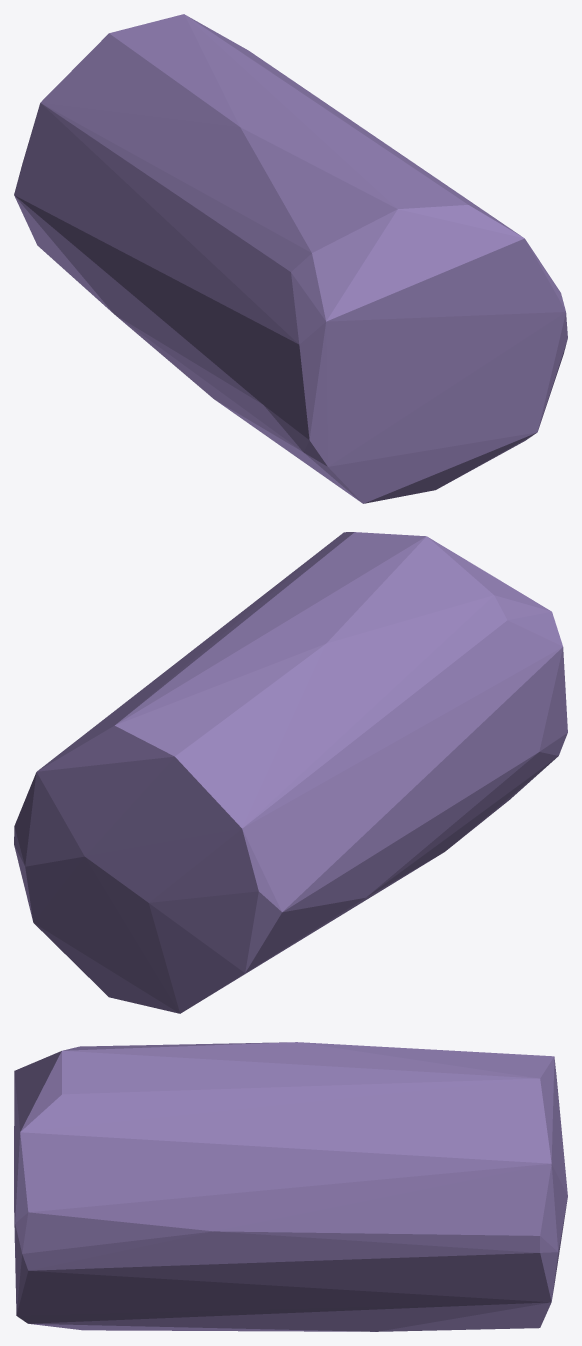
File: drum_plastic_natural_a03.glb
3 views of the same model, one above another, from view 1: azimuth 30°, elevation 25°; view 2: azimuth 150°, elevation 25°; view 3: azimuth 270°, elevation 25° (orthographic). The views are drawn at different scales.
Visible parts, largest first — view 1: geometry_0; view 2: geometry_0; view 3: geometry_0.
Boxes of the visible parts, x1,y1,x2,y2 form: geometry_0: (14, 14, 567, 503); geometry_0: (14, 532, 567, 1013); geometry_0: (14, 1042, 567, 1331).
Bounding box in the file's own units: 0.2498 × 0.2513 × 0.48.
